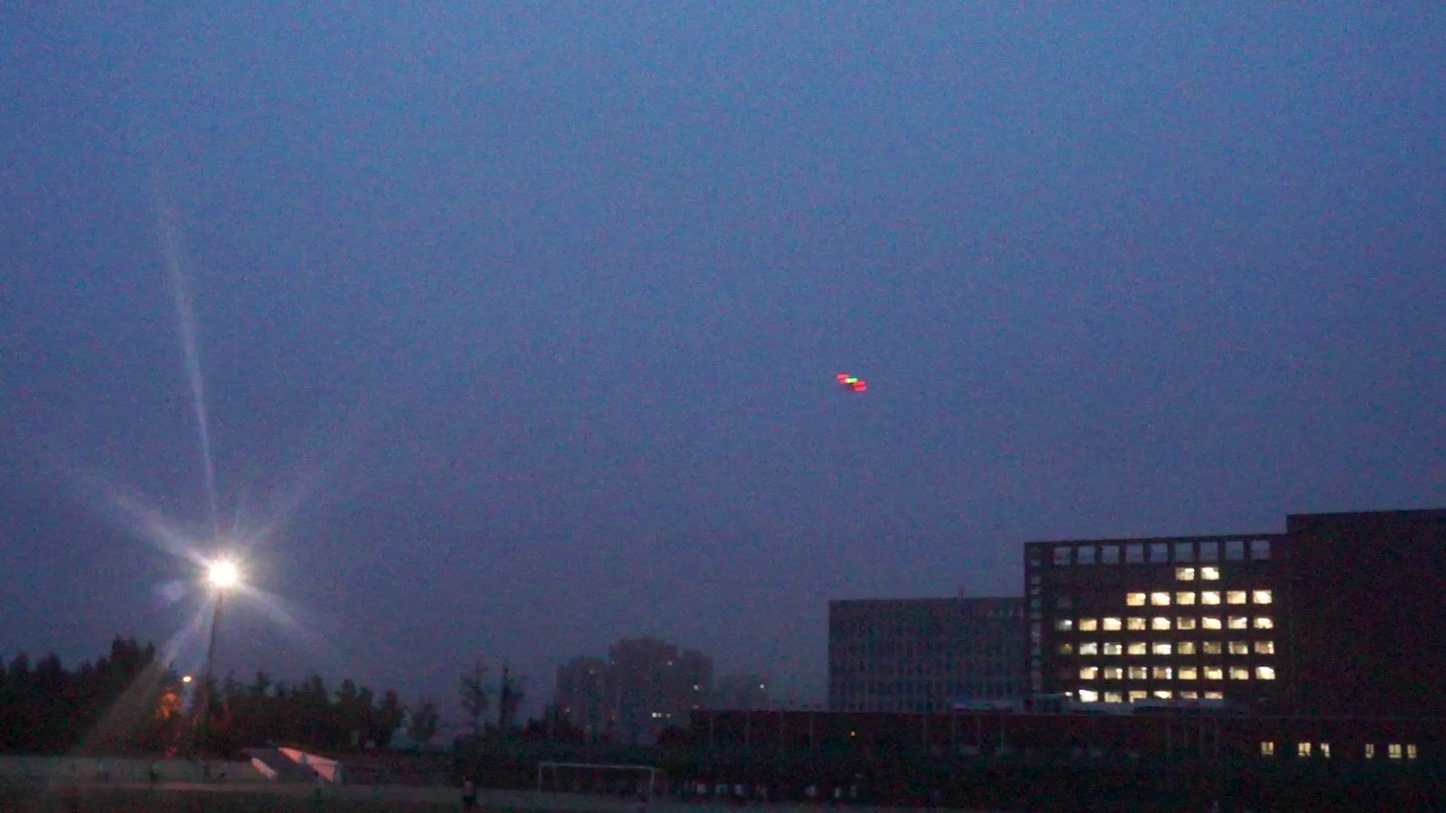UAV: (837, 373, 868, 392)
